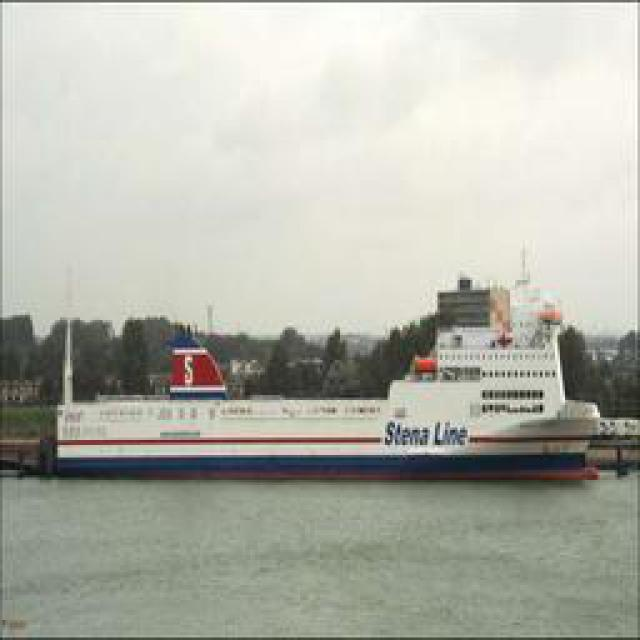Ship: (46, 321, 604, 484)
